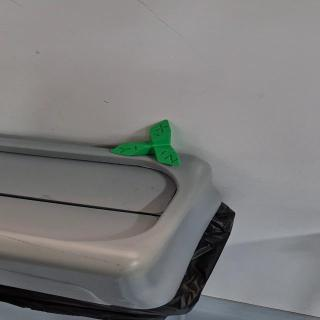eje: (109, 119, 182, 167)
